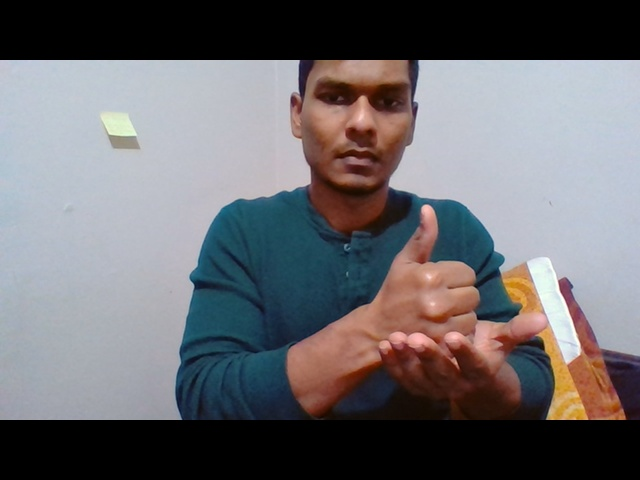Help: (374, 200, 550, 402)
